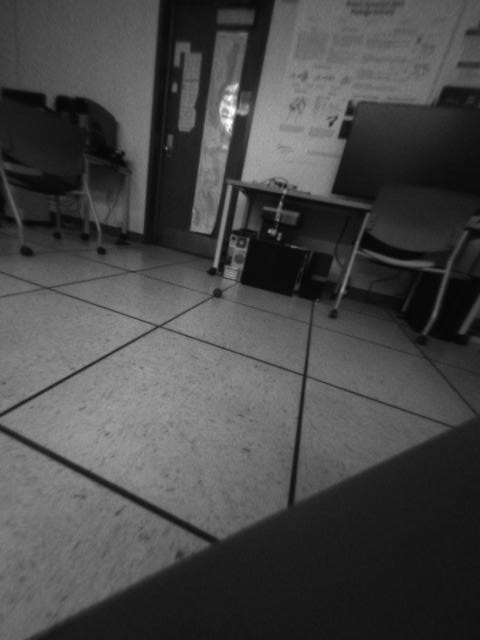dogtoy: (208, 282, 229, 303)
